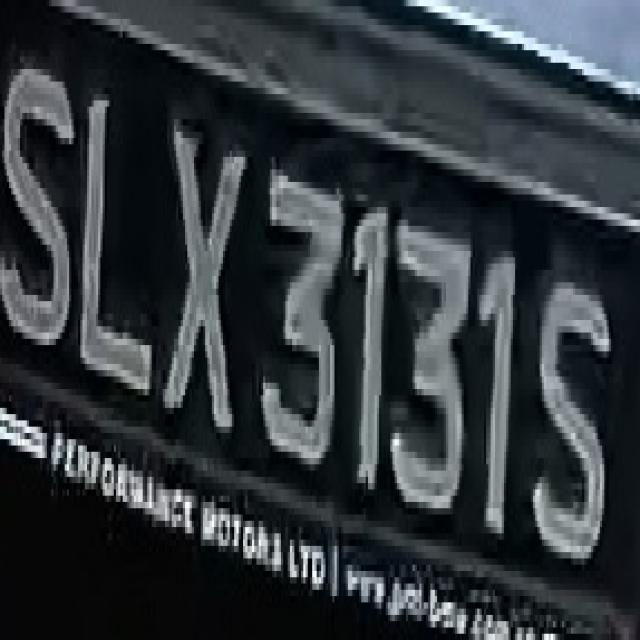1: (346, 170, 390, 540), (477, 213, 522, 546)
3: (395, 176, 475, 546), (261, 138, 343, 483)
L: (78, 63, 158, 420)
S: (533, 251, 620, 577), (3, 32, 80, 370)
X: (158, 75, 254, 452)
